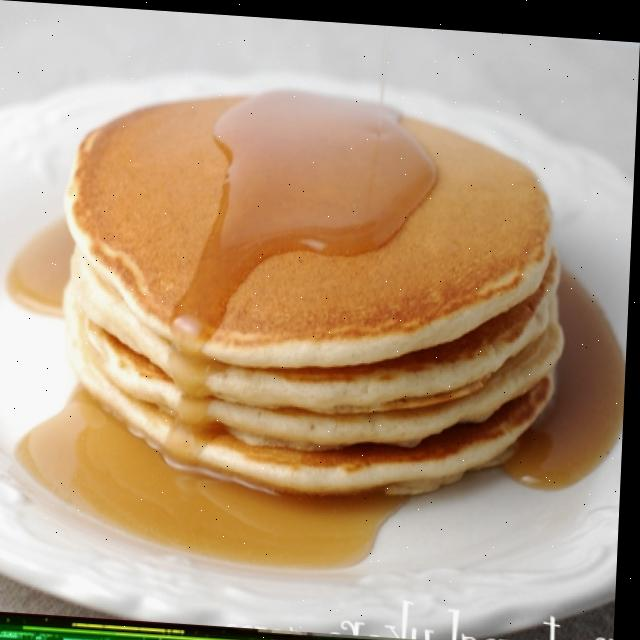蛋糕甜品: (0, 65, 638, 638)
